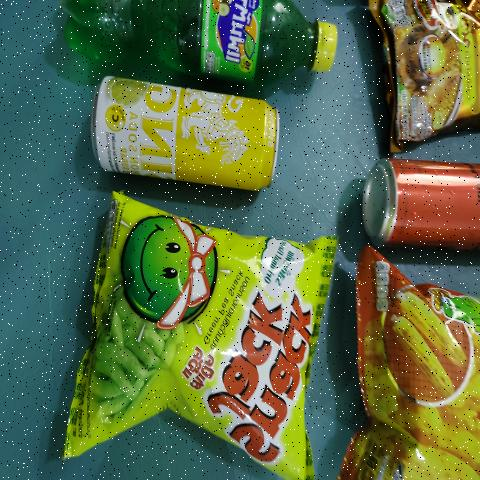fanta_green: (57, 0, 332, 92)
singha_yellow: (93, 93, 283, 179)
snack_jack: (75, 239, 318, 444)
